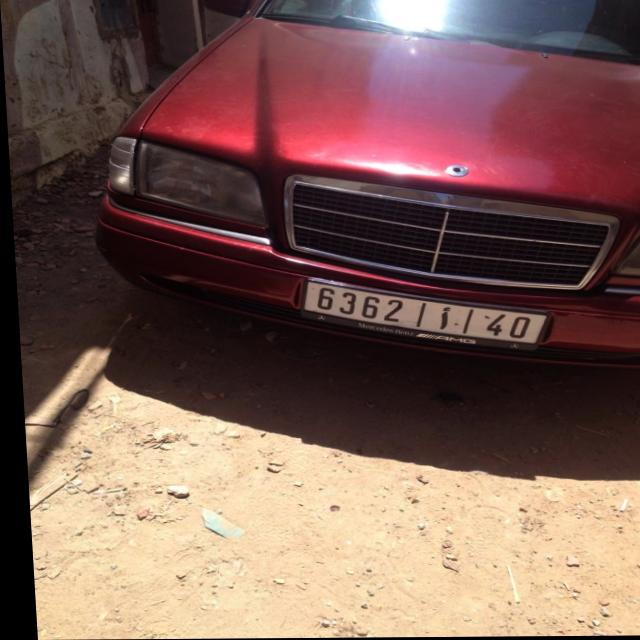License-Plate: (302, 283, 542, 345)
